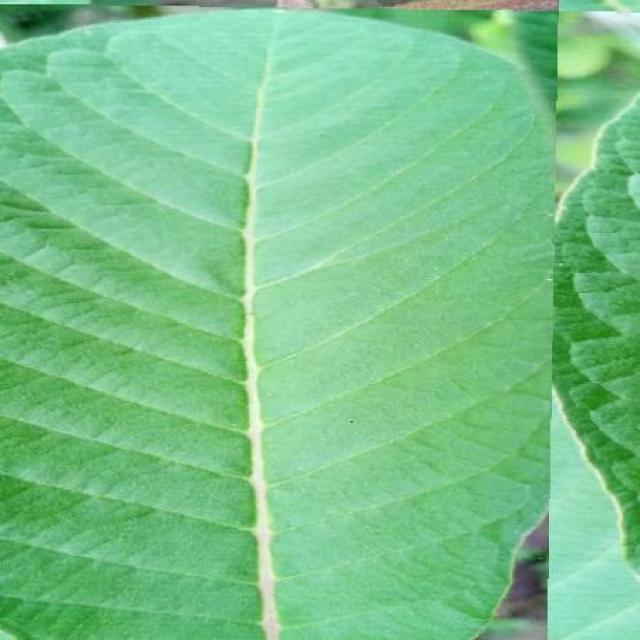Disease Free: (0, 11, 551, 639), (554, 95, 640, 571)
